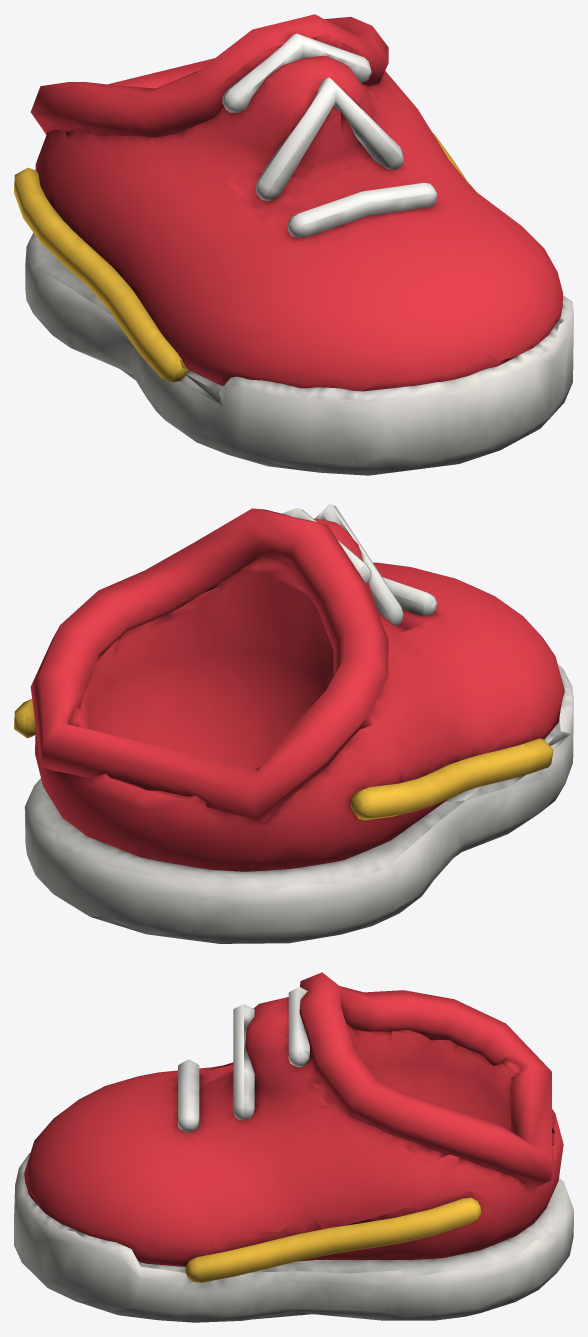
File: char_shoe_sneaker.glb
The picture shows the model from 3 angles, top to bottom: view 1: azimuth 30°, elevation 25°; view 2: azimuth 150°, elevation 25°; view 3: azimuth 270°, elevation 25°; orthographic projection. The views are drawn at different scales.
Parts seen in each view (by area): view 1: char_shoe_sneaker; view 2: char_shoe_sneaker; view 3: char_shoe_sneaker.
Part boxes in pixels (left/top/right/bottom): char_shoe_sneaker: left=14, top=14, right=573, bottom=475; char_shoe_sneaker: left=14, top=504, right=573, bottom=943; char_shoe_sneaker: left=14, top=972, right=573, bottom=1322.
Size of the model in its own units: 0.1941 by 0.1557 by 0.2834.
4 materials, 4 textured.
